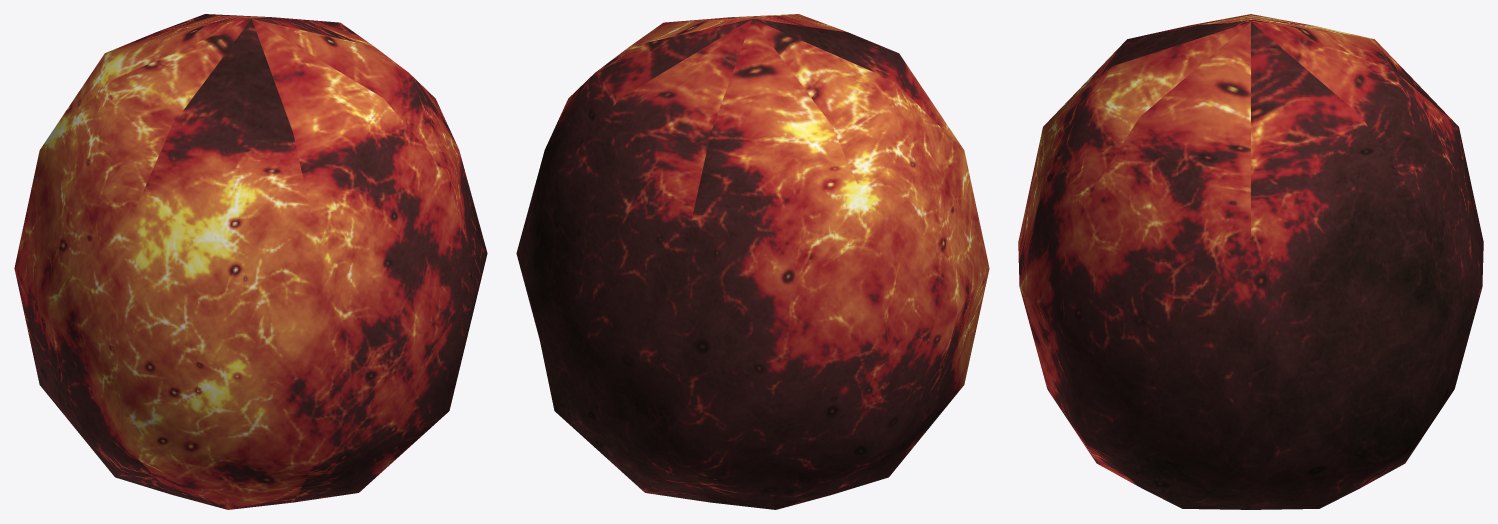
Rendered from Planet9.fbx.
3 renders of one model, left to right at view 1: azimuth 30°, elevation 25°; view 2: azimuth 150°, elevation 25°; view 3: azimuth 270°, elevation 25°, orthographic.
Visible parts, largest first — view 1: pasted__pasted__pSphere3; view 2: pasted__pasted__pSphere3; view 3: pasted__pasted__pSphere3.
Part boxes in pixels (left/top/right/bottom): pasted__pasted__pSphere3: left=14, top=14, right=487, bottom=509; pasted__pasted__pSphere3: left=516, top=14, right=989, bottom=509; pasted__pasted__pSphere3: left=1018, top=14, right=1483, bottom=509.
Size of the model in its own units: 1.56 by 1.76 by 1.53.
1 material, 1 textured.
